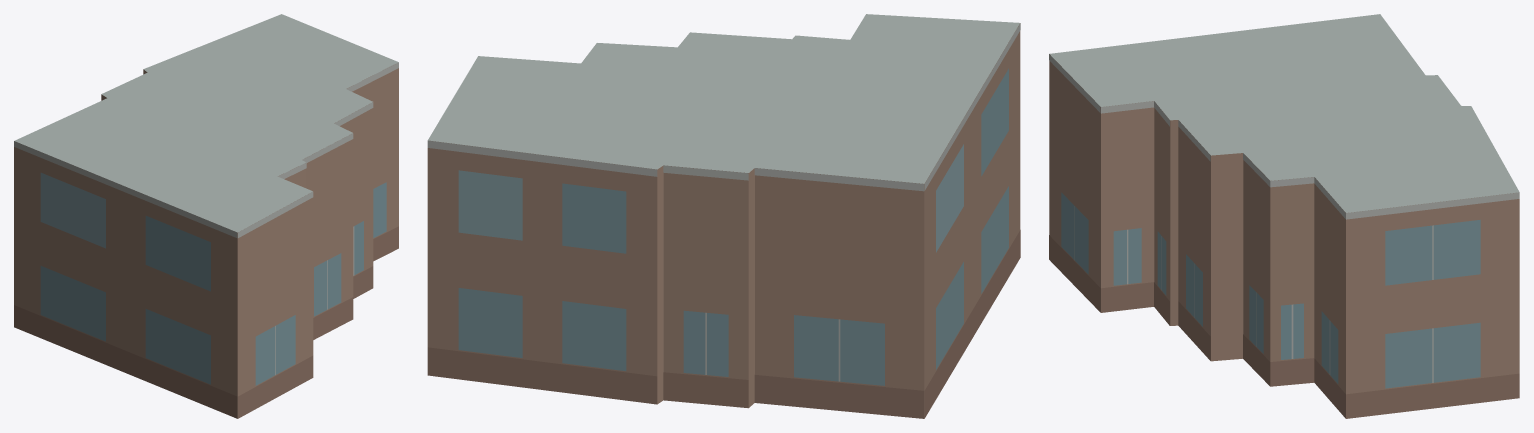
Rendered from survey-upis-32921110.glb.
3 renders of one model, left to right at view 1: azimuth 30°, elevation 25°; view 2: azimuth 150°, elevation 25°; view 3: azimuth 270°, elevation 25°, orthographic. The views are drawn at different scales.
Visible parts, largest first — view 1: survey-upis-32921110.tmp; view 2: survey-upis-32921110.tmp; view 3: survey-upis-32921110.tmp.
Part boxes in pixels (x1=…): survey-upis-32921110.tmp: x1=14, y1=14, x2=398, y2=418; survey-upis-32921110.tmp: x1=427, y1=14, x2=1020, y2=418; survey-upis-32921110.tmp: x1=1049, y1=14, x2=1519, y2=418.
Bounding box in the file's own units: 15.98 × 7.7 × 15.96.
